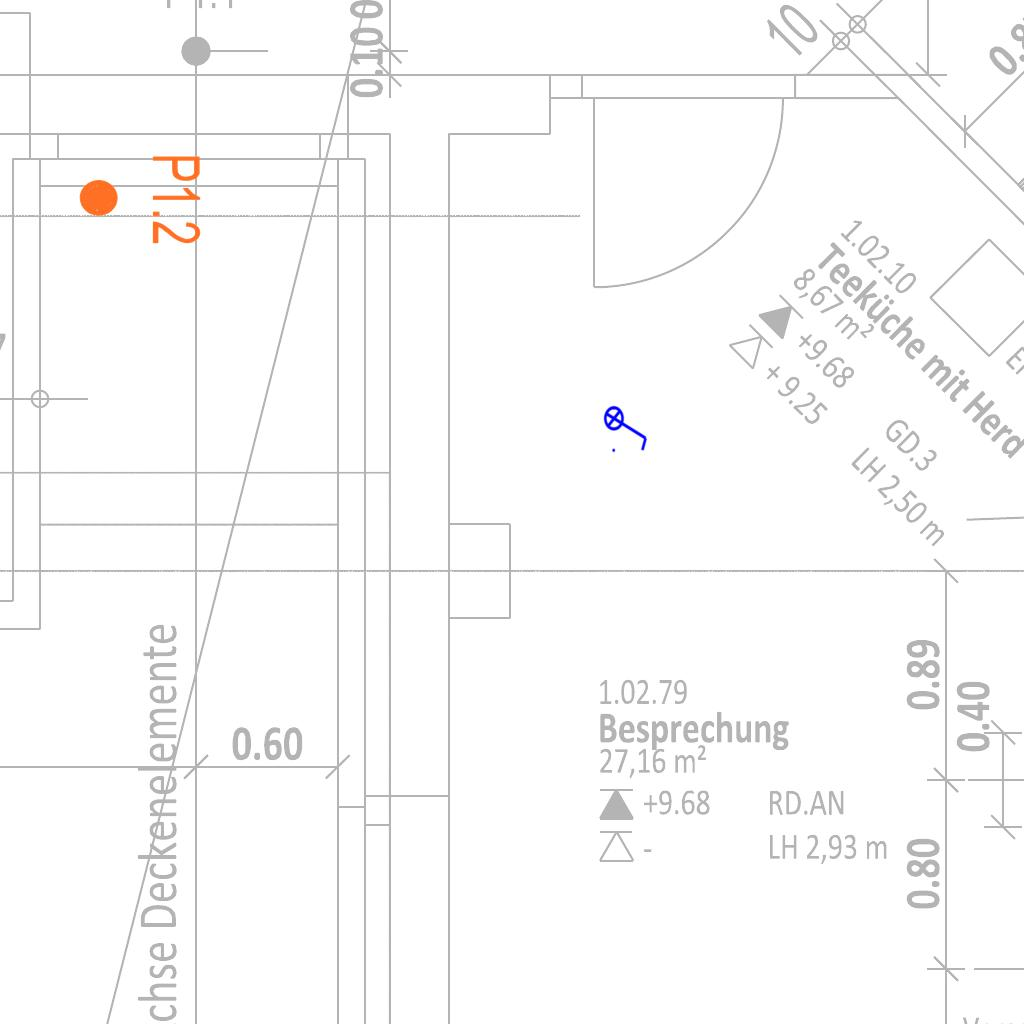Ausschalter_beleuchtet: (603, 399, 651, 455)
Downlight_LED_Einbauleuchten_Flur: (76, 153, 204, 246)
